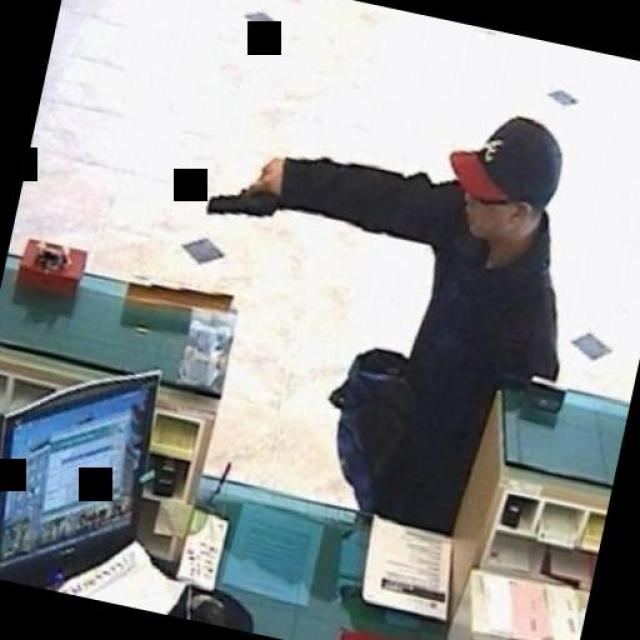gun: (205, 160, 289, 226)
